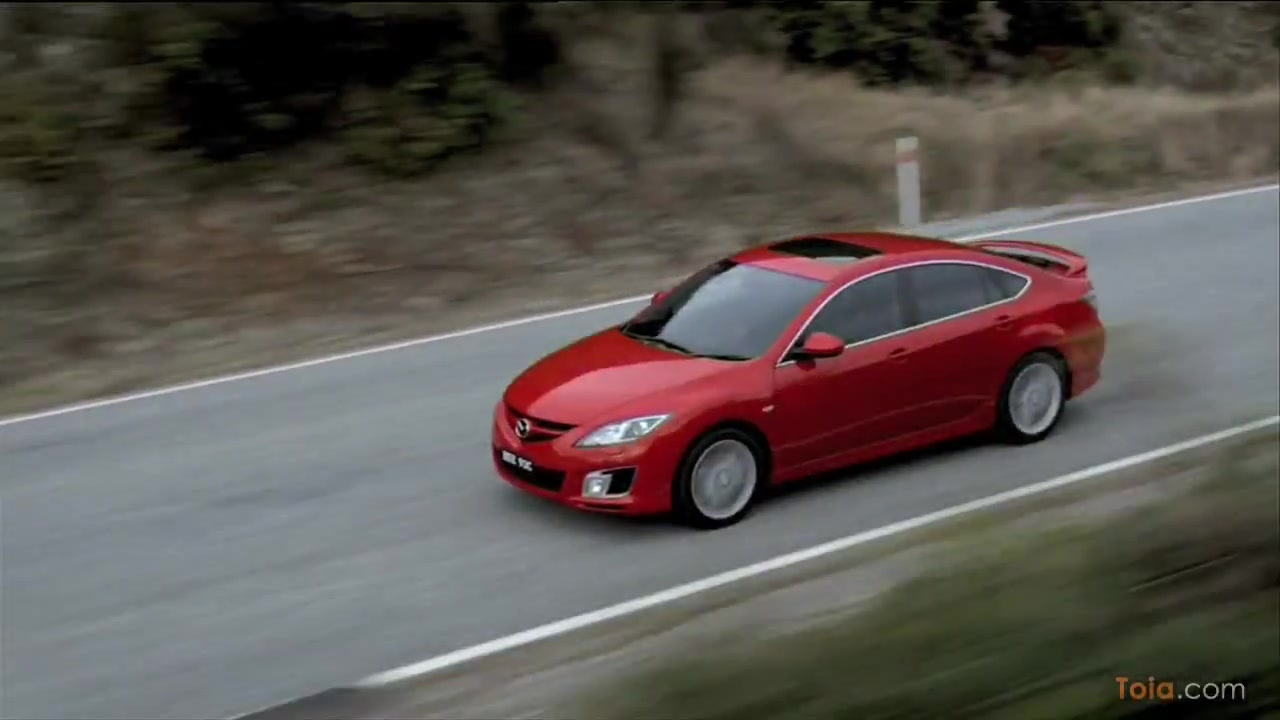car: (487, 226, 1111, 531)
